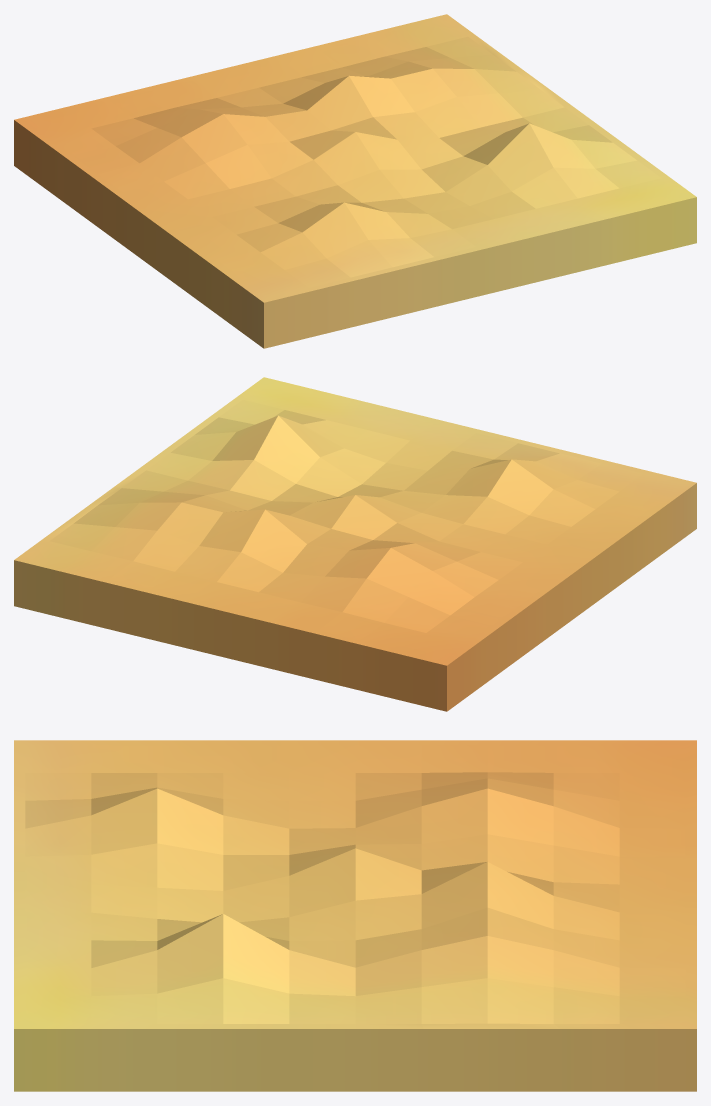
The model's file is Annual.fbx.
3 renders of one model, top to bottom at view 1: azimuth 30°, elevation 25°; view 2: azimuth 150°, elevation 25°; view 3: azimuth 270°, elevation 25°, orthographic. The views are drawn at different scales.
Parts seen in each view (by area): view 1: Annual; view 2: Annual; view 3: Annual.
Boxes of the visible parts, <box> form: Annual: <box>14,14,696,348</box>; Annual: <box>14,377,696,711</box>; Annual: <box>14,740,696,1091</box>.
Size of the model in its own units: 326 by 65.02 by 326.
1 material, 1 textured.
